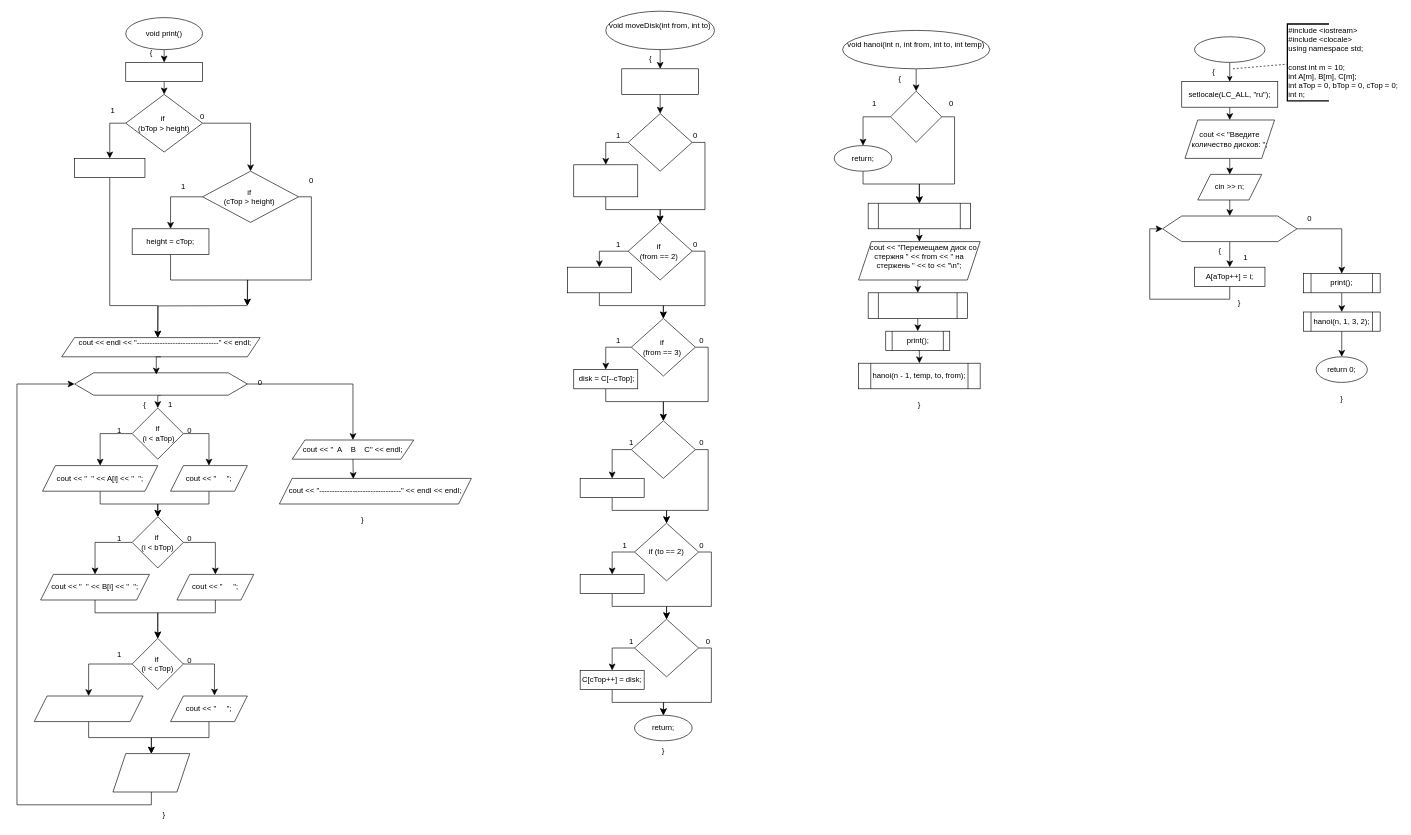
This 1411x835 diagram has some shape labels left out. Here are the shapes that lost their labels. From the top down, the box of each, then its label:
(1194, 36, 1265, 62): int main()
(125, 62, 203, 82): int height = aTop;
(621, 68, 699, 94): int disk;
(890, 91, 942, 142): if (n <= 0)
(628, 113, 692, 171): if ( from == 1)
(74, 158, 145, 178): height = bTop;
(573, 164, 638, 197): disk = A[--aTop];
(868, 203, 971, 229): hanoi(n - 1, from, temp, to);
(1162, 215, 1297, 242): for (int i = n; i >= 1; i--)
(567, 267, 631, 293): disk = B[--bTop];
(868, 292, 967, 318): moveDisk(from, to);
(74, 372, 247, 395): for (int i = height - 1; i >= 0; i--)
(631, 420, 695, 478): if (to == 1)
(580, 478, 644, 498): A[aTop++] = disk;
(580, 574, 644, 594): B[bTop++] = disk;
(634, 619, 699, 677): if (to == 3 )
(34, 695, 143, 722): cout << " " << C[i] << " ";
(112, 753, 190, 792): cout << endl;
